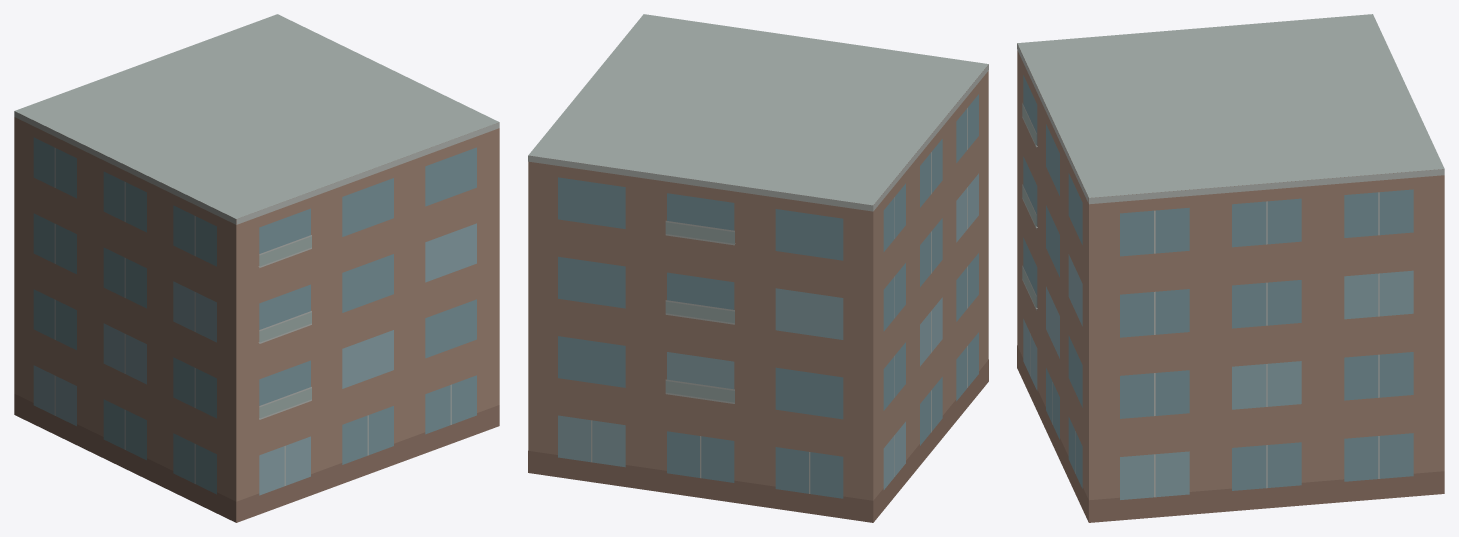
Rendered from survey-upis-32929914.glb.
3 views of the same model, side by side, from view 1: azimuth 30°, elevation 25°; view 2: azimuth 150°, elevation 25°; view 3: azimuth 270°, elevation 25° (orthographic). The views are drawn at different scales.
Parts seen in each view (by area): view 1: survey-upis-32929914.tmp; view 2: survey-upis-32929914.tmp; view 3: survey-upis-32929914.tmp.
Part boxes in pixels (bbox=[...]): survey-upis-32929914.tmp: bbox=[14, 14, 499, 522]; survey-upis-32929914.tmp: bbox=[528, 14, 988, 522]; survey-upis-32929914.tmp: bbox=[1017, 14, 1444, 522].
Bounding box in the file's own units: 15.31 × 12.6 × 15.03.
